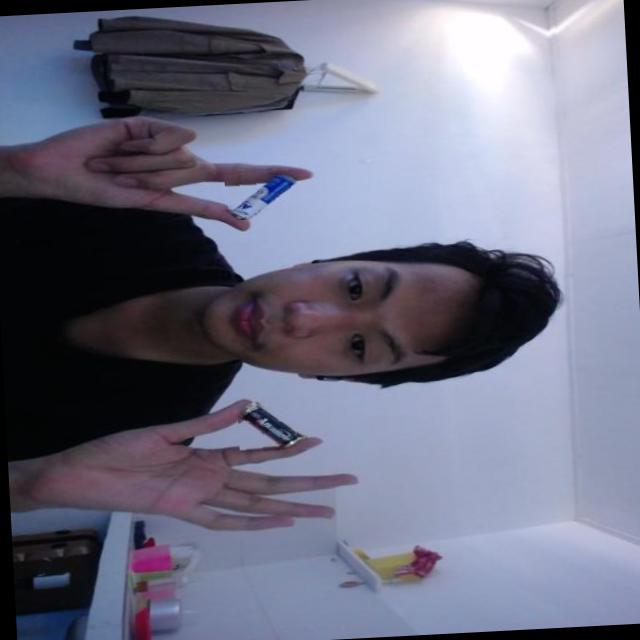Hazard: (222, 167, 299, 221), (236, 398, 308, 452)
